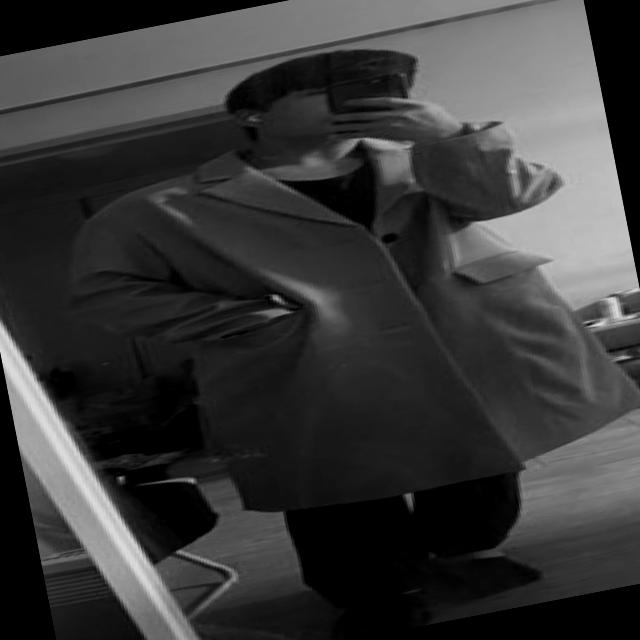coat: (56, 82, 640, 546)
slacks: (281, 456, 546, 618)
